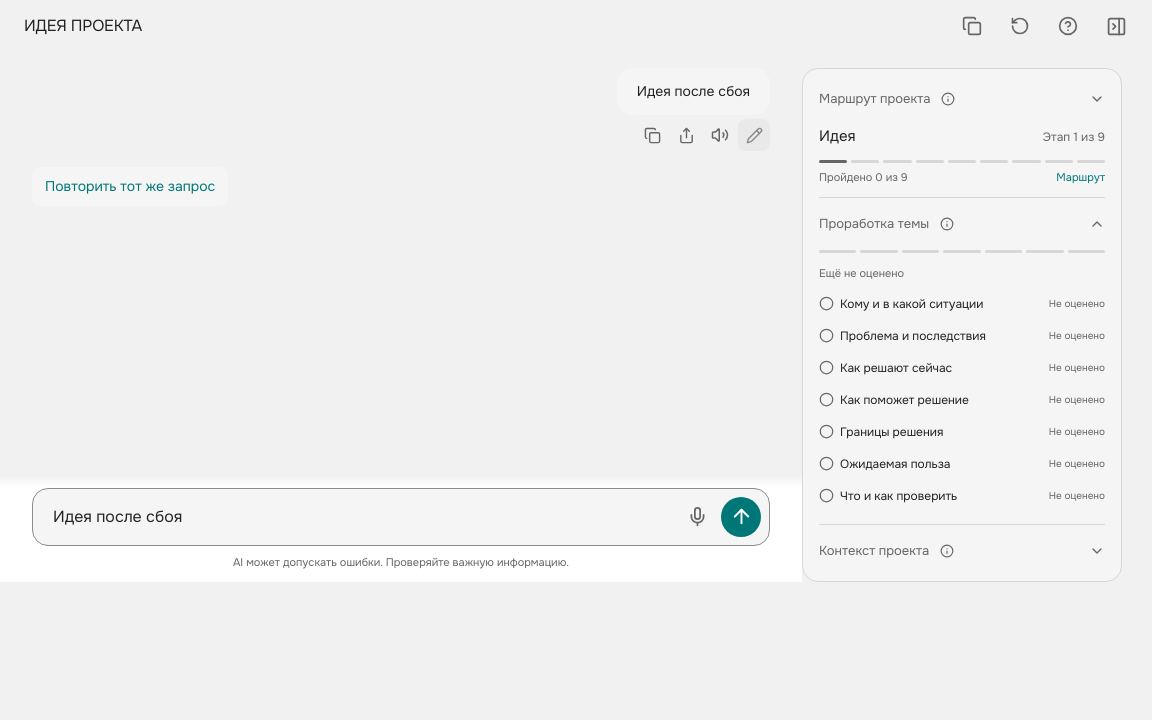
Test: offers same-id manual retry after reloading a network failure without duplicating history
This screenshot has width=1152, height=720.
Click the button "Повторить тот же запрос": (130, 187) top-left (32, 167), bottom-right (228, 206)
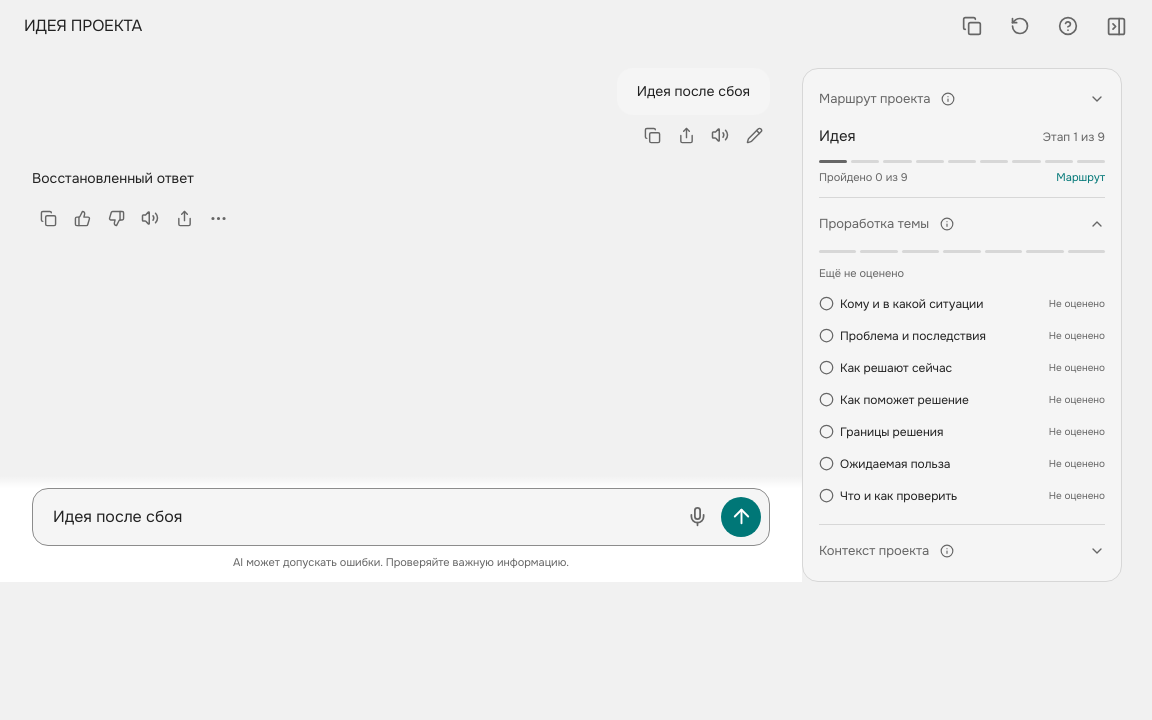
expect the element with class "user" reads "Идея после сбоя": met, box top-left (637, 82), bottom-right (750, 100)
expect the text "Восстановленный ответ" is shown: met, box top-left (32, 169), bottom-right (194, 187)
